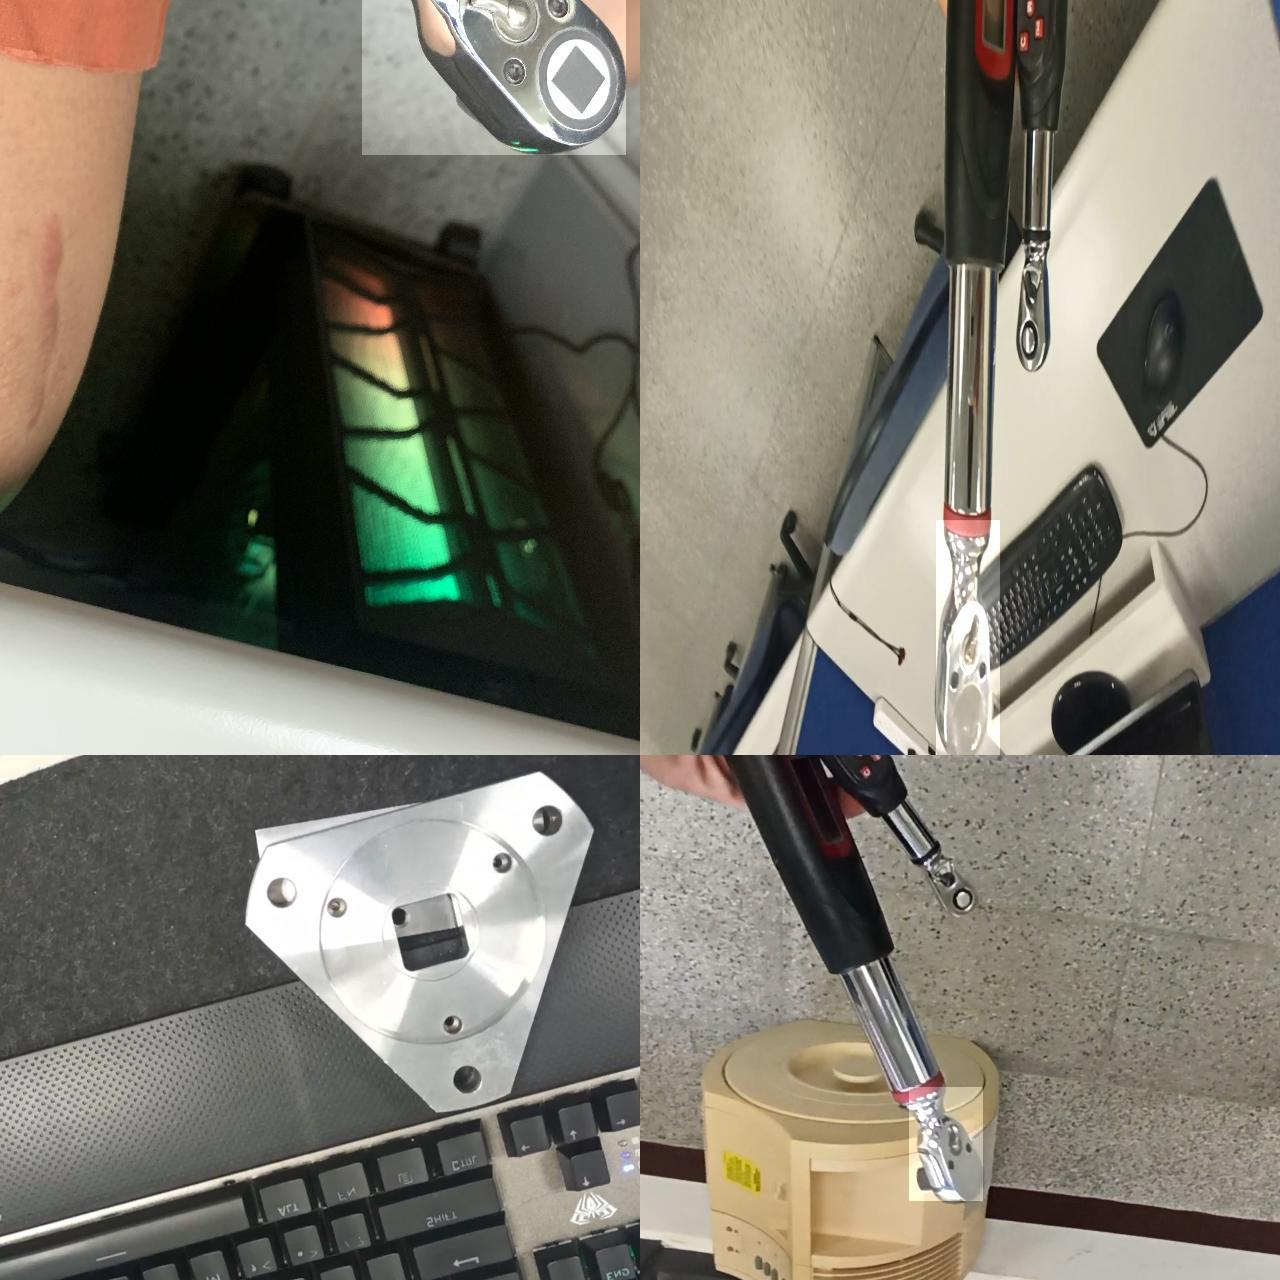Tool: (362, 0, 626, 155), (936, 520, 1000, 755), (909, 1087, 983, 1201), (1015, 243, 1054, 374), (922, 850, 976, 916)
hole: (260, 864, 310, 924), (524, 801, 569, 845), (444, 1060, 488, 1096), (324, 892, 356, 934), (490, 848, 518, 880), (440, 1010, 466, 1036)
